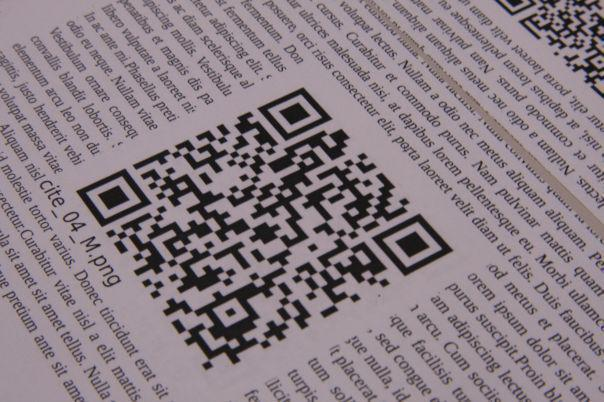qr_code: (77, 87, 453, 379)
